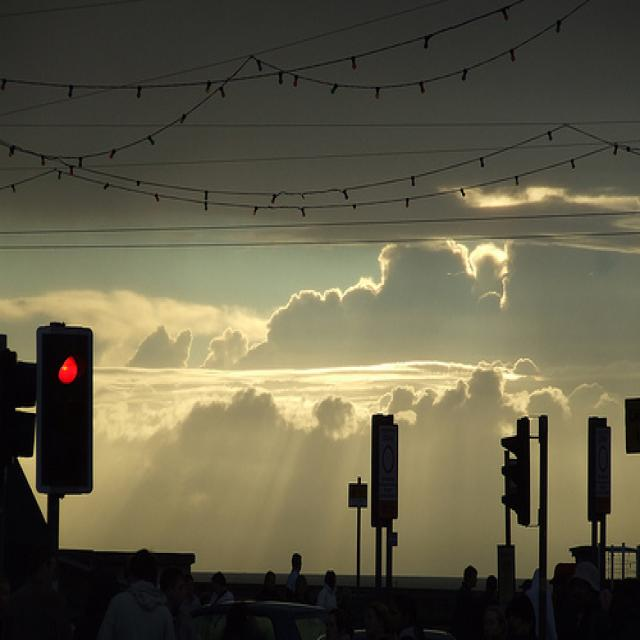Vehicle: (188, 601, 331, 640)
